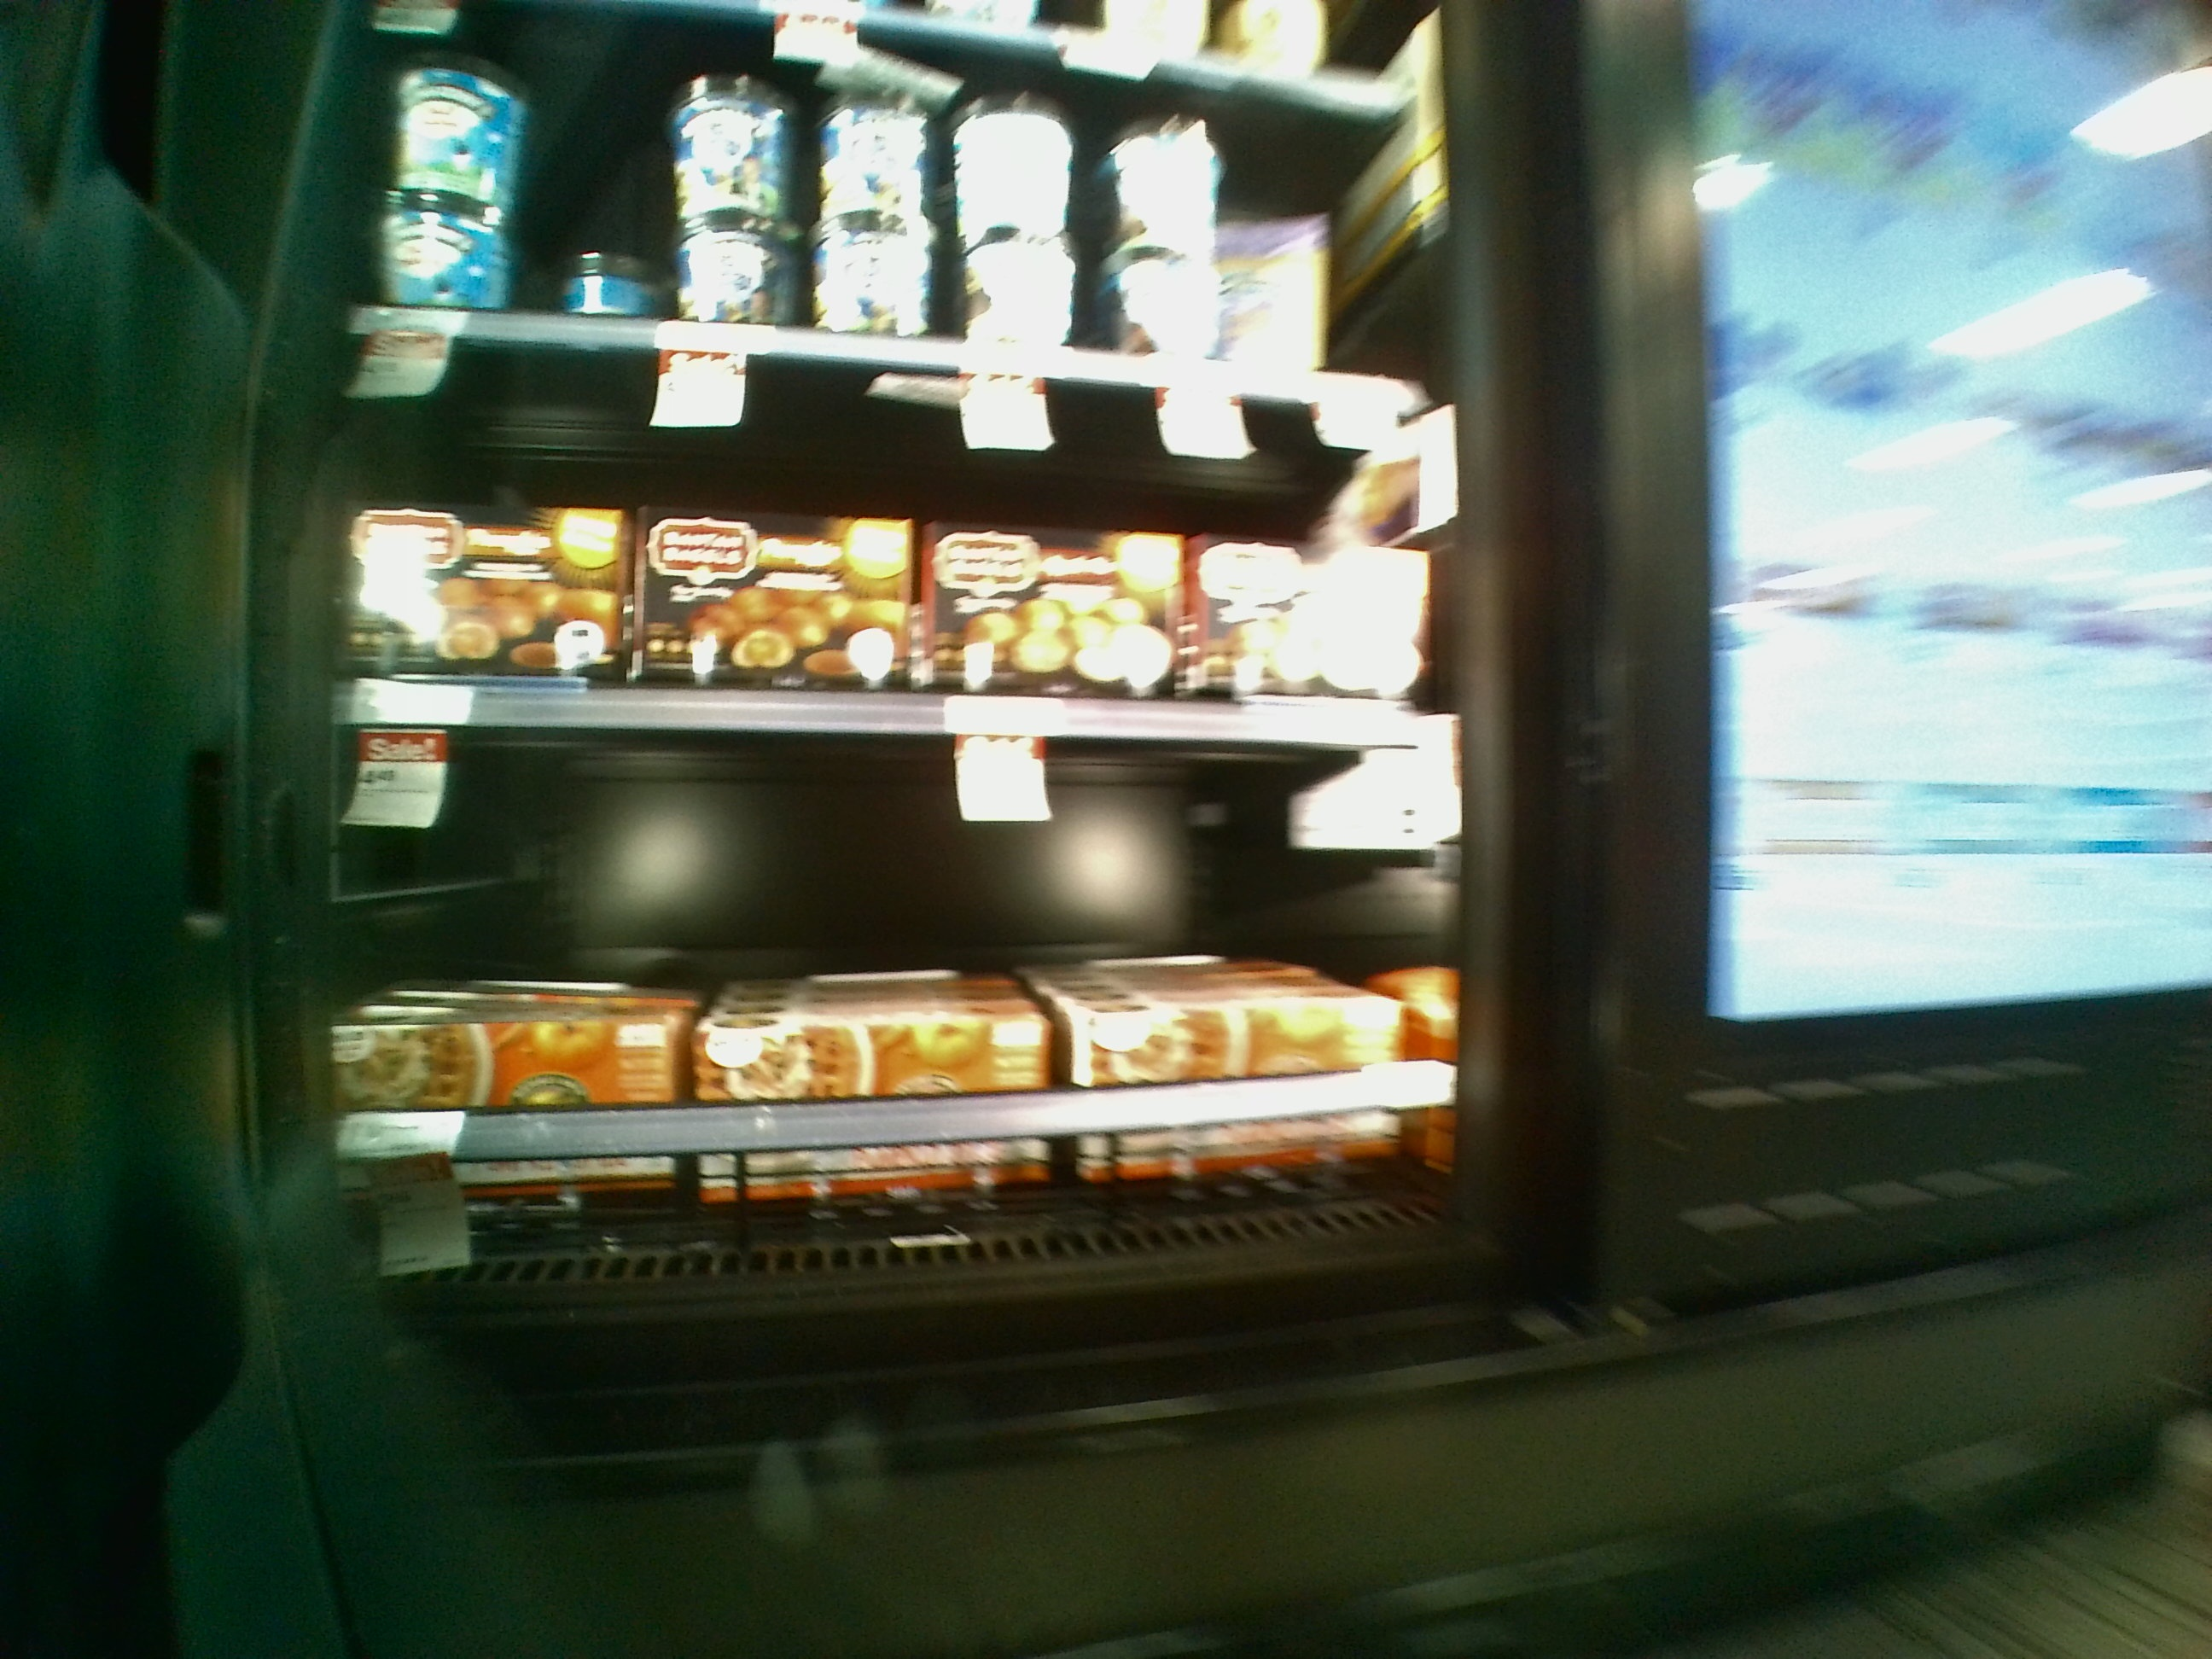shelf: (327, 699, 1465, 1293), (329, 319, 1446, 741)
